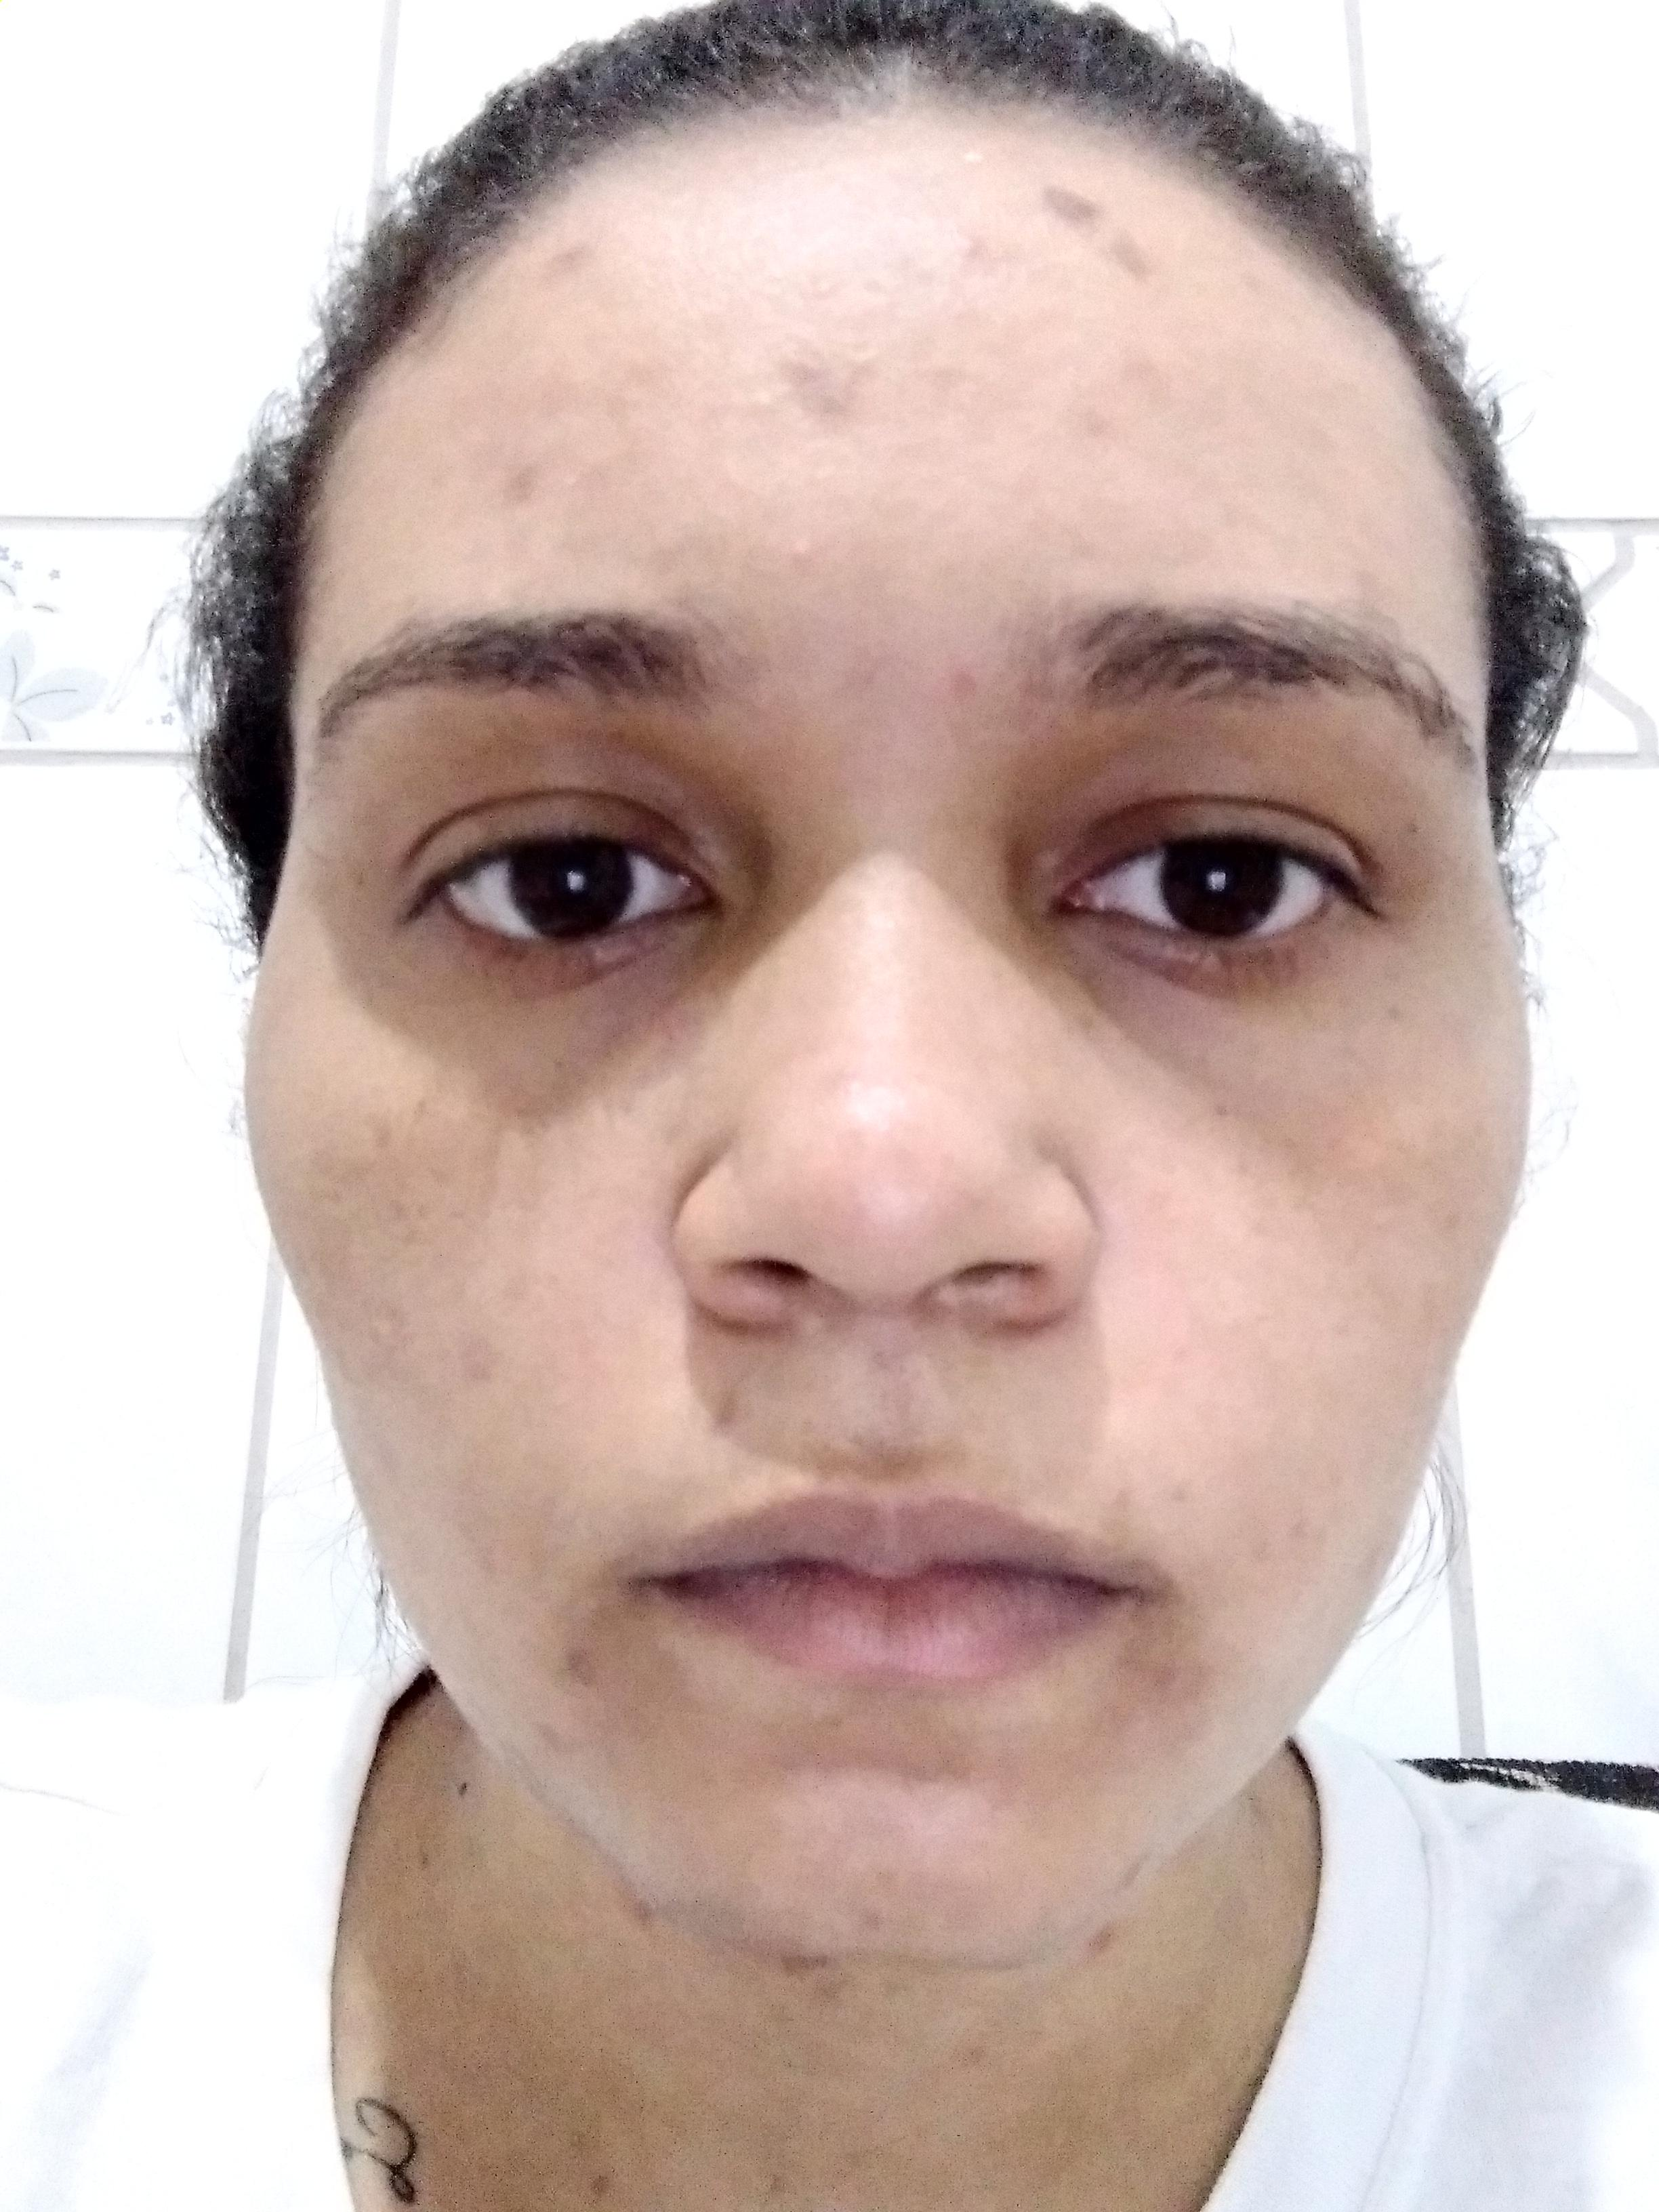Acne: (1035, 178, 1169, 277), (777, 338, 892, 439), (479, 444, 575, 535), (936, 211, 1014, 287), (688, 1371, 751, 1447), (784, 256, 856, 319), (1279, 1501, 1345, 1568), (925, 657, 988, 721), (525, 237, 608, 280), (1066, 404, 1127, 462), (918, 341, 969, 409), (1112, 345, 1169, 401), (549, 1646, 608, 1689), (943, 136, 997, 181), (1234, 263, 1283, 310), (1161, 1472, 1209, 1517)
Eyebags: (1035, 930, 1500, 1123), (322, 977, 742, 1155)
